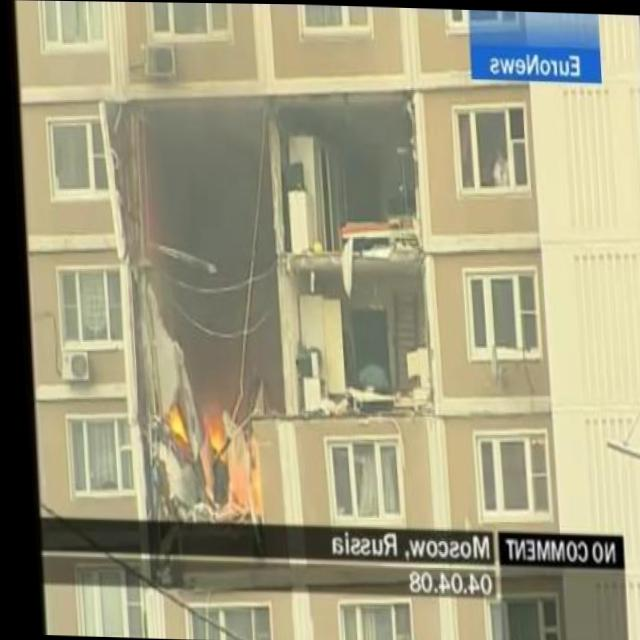fire: (191, 393, 227, 468), (157, 401, 180, 449)
